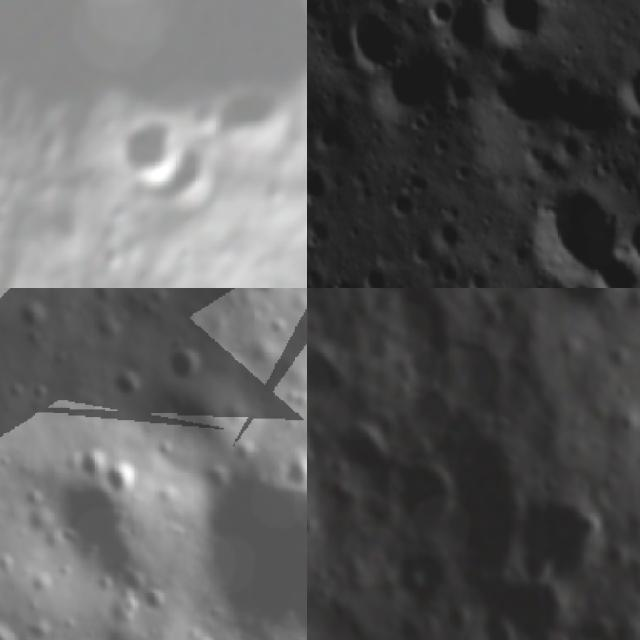crater: (0, 467, 149, 640), (189, 453, 307, 639), (430, 435, 544, 584), (511, 161, 634, 288), (531, 52, 640, 164), (472, 48, 572, 146), (356, 50, 460, 140), (522, 491, 614, 589), (332, 0, 428, 83), (112, 106, 196, 192), (217, 75, 302, 158), (383, 459, 459, 541), (156, 137, 230, 220), (451, 327, 519, 410), (483, 0, 566, 61), (434, 0, 508, 65), (497, 580, 570, 640), (307, 102, 373, 165), (331, 420, 397, 480), (515, 133, 575, 190), (550, 288, 633, 321), (608, 55, 640, 140), (423, 212, 470, 261), (586, 247, 640, 288), (164, 334, 204, 386), (307, 208, 345, 262), (307, 341, 345, 395), (307, 158, 341, 218), (103, 195, 143, 242), (109, 355, 145, 407), (98, 236, 138, 281), (614, 206, 640, 273), (441, 597, 478, 640), (9, 294, 48, 334), (380, 190, 420, 227), (66, 442, 103, 482), (353, 257, 399, 288), (98, 458, 138, 492), (422, 0, 461, 34), (458, 259, 502, 288), (280, 448, 307, 491), (425, 132, 458, 166), (140, 584, 169, 622), (78, 164, 107, 200), (560, 271, 609, 288), (328, 272, 362, 288)
